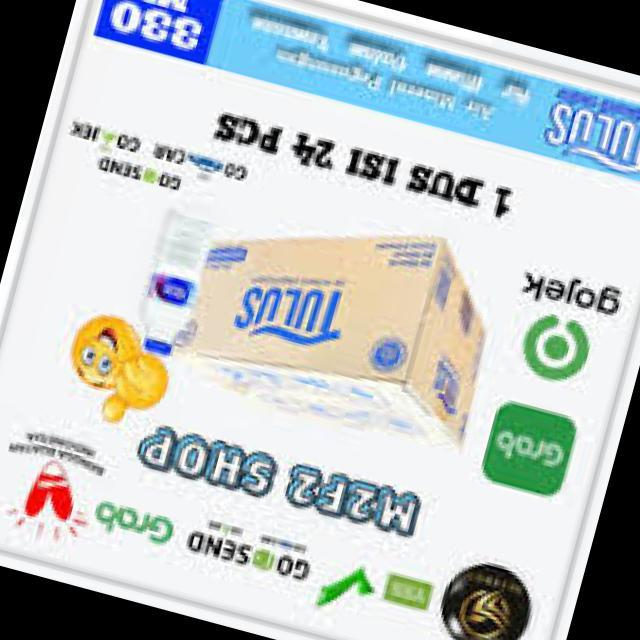good: (115, 188, 224, 370)
